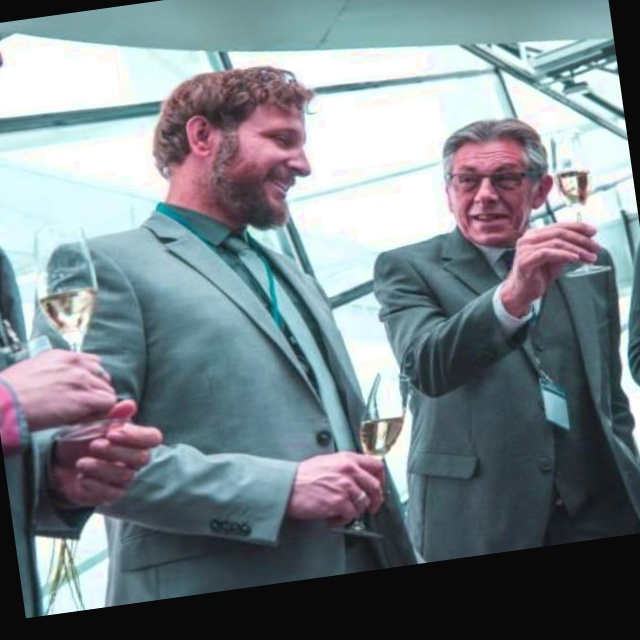Sin_Casco_Mascarrilla: (141, 58, 325, 238), (435, 111, 558, 252)
